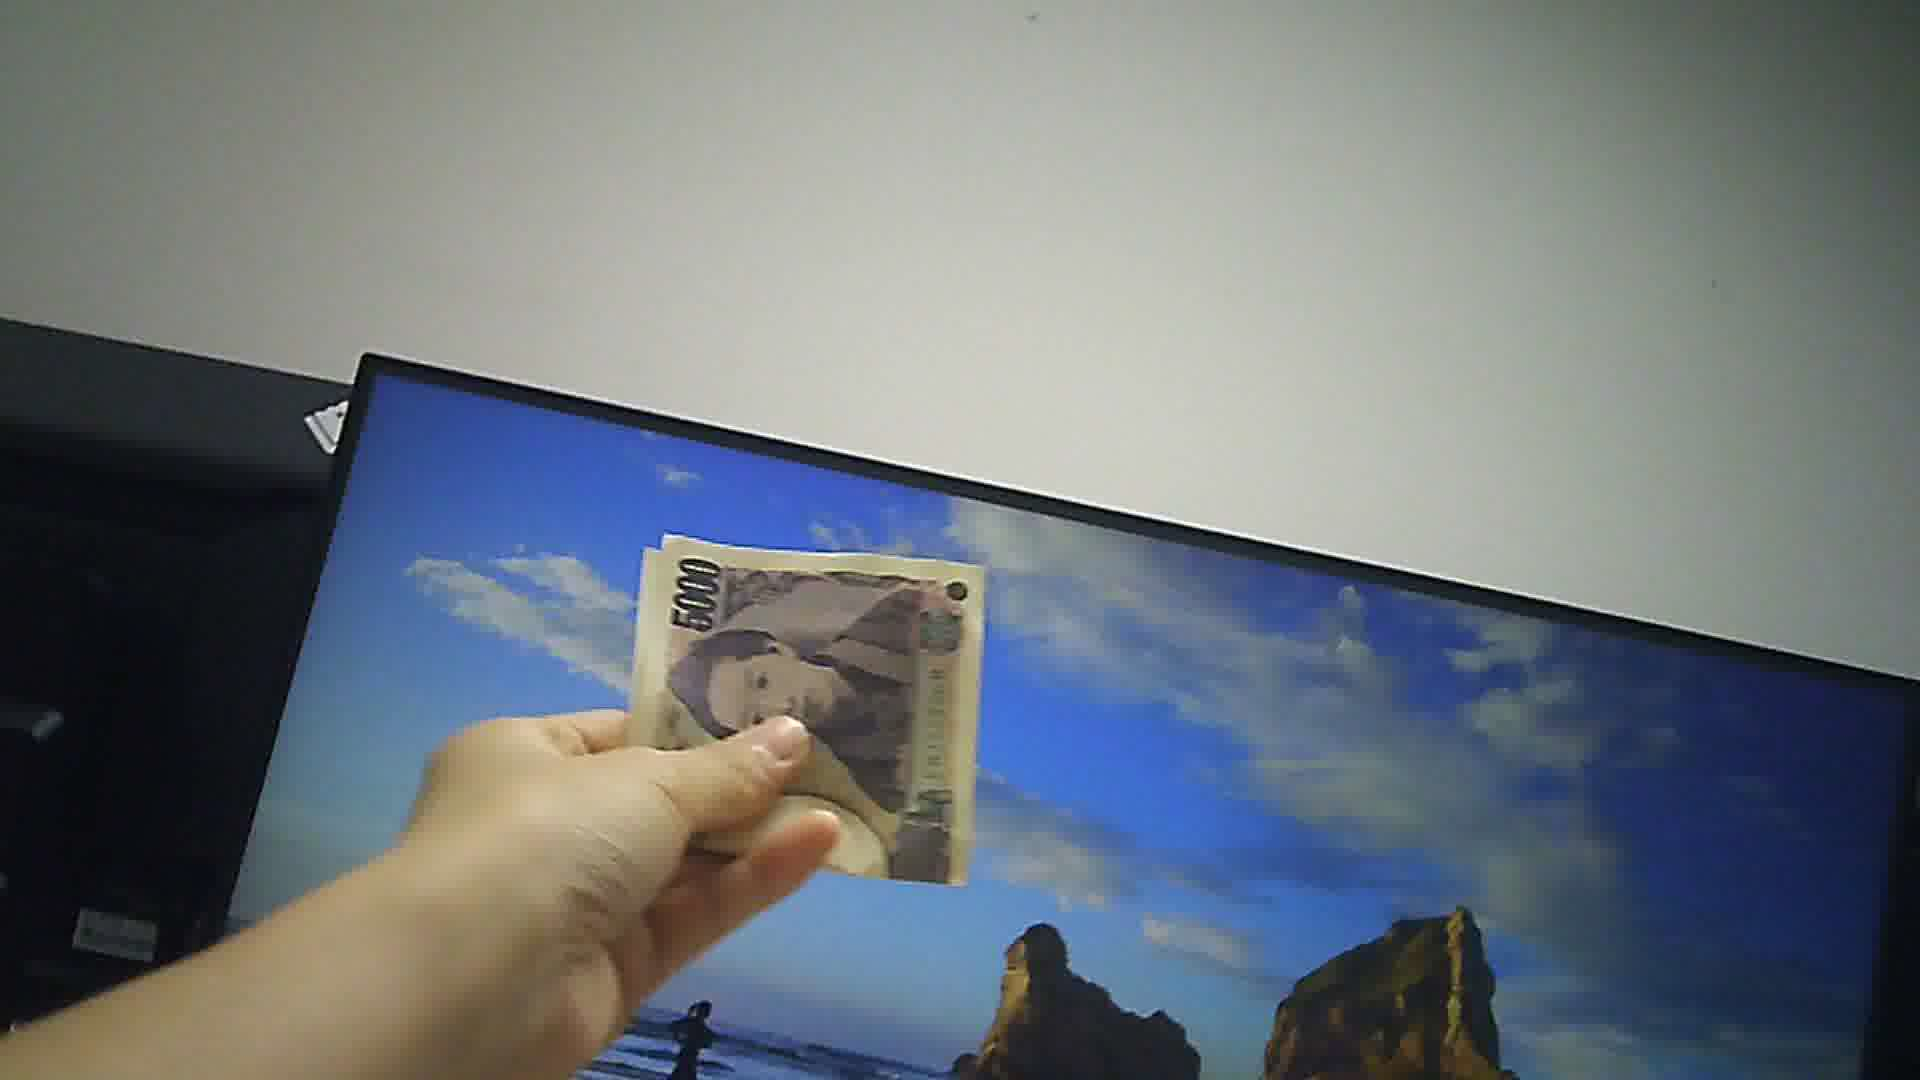5,000 Yen: (615, 529, 1000, 887)
